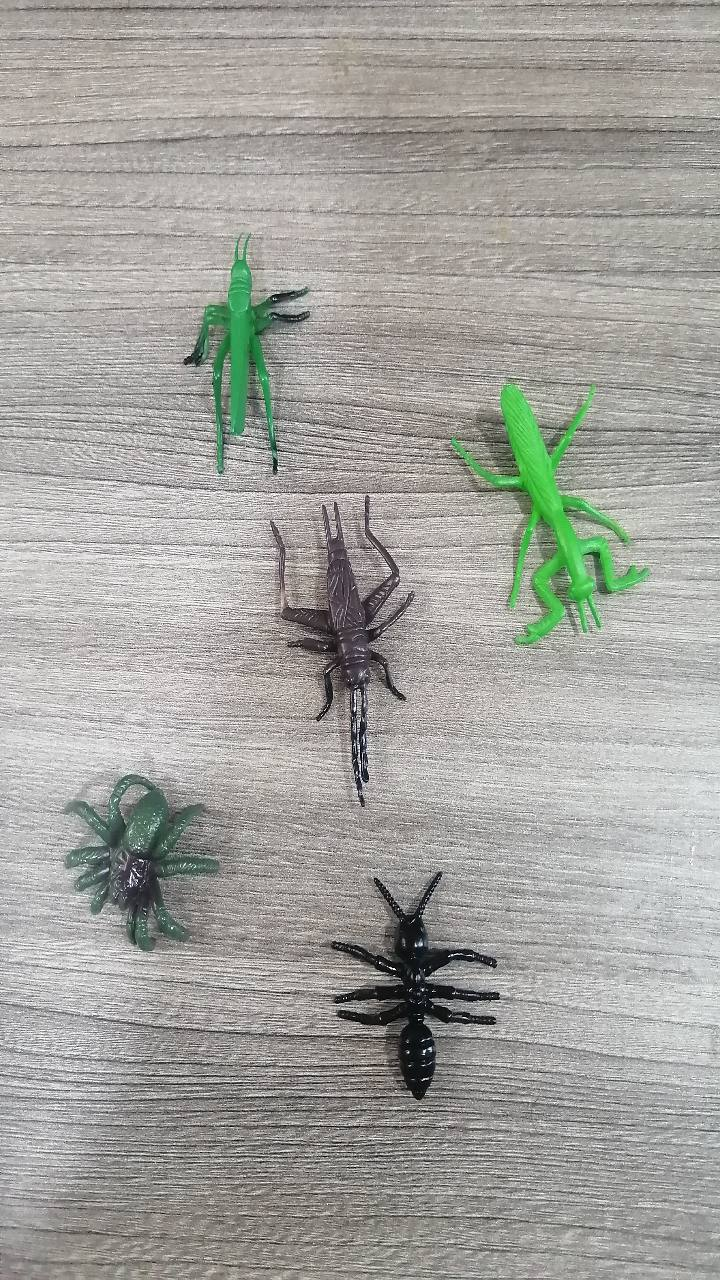intruso: (411, 355, 654, 666), (235, 485, 437, 800), (300, 852, 521, 1126), (131, 219, 320, 483), (37, 751, 238, 971)
